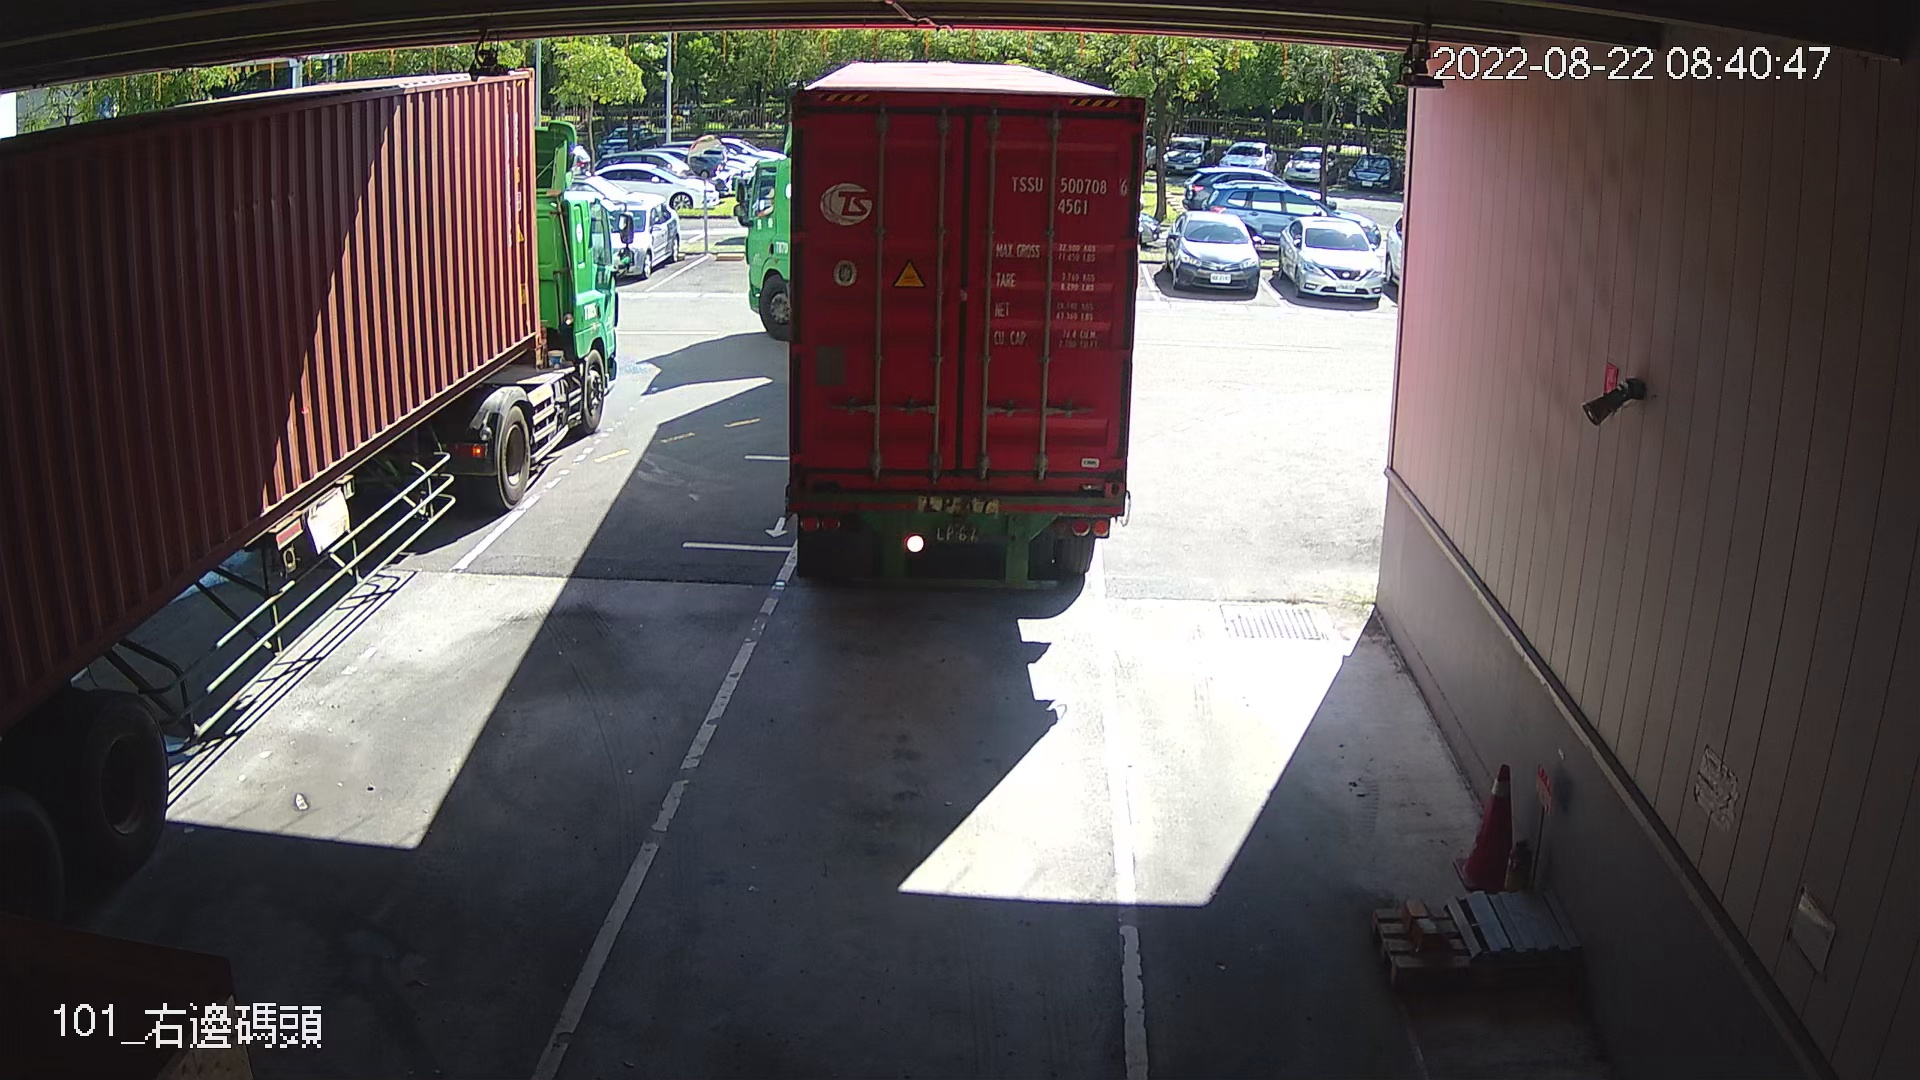container: (1001, 167, 1131, 222)
